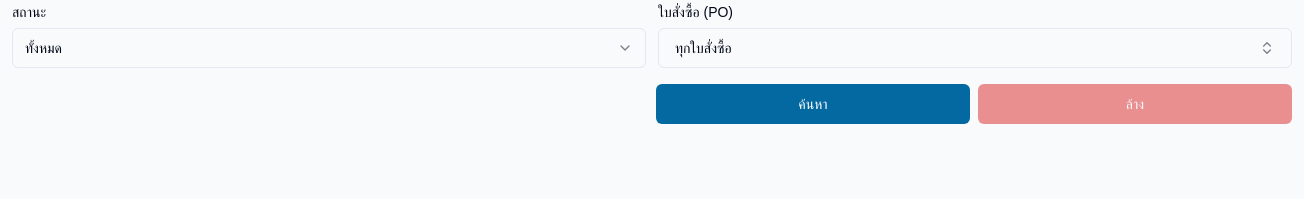
Test: GRNListFilterForm › ล้าง is disabled while pristine and enables after a change
Expected: the button "ล้าง" is disabled, 978,84 -> 1292,124
What coordinates should you click on to do the following:
click the dropdown named "สถานะ"
I would click on:
 (44, 48)
Its box is 12,28 -> 646,68.
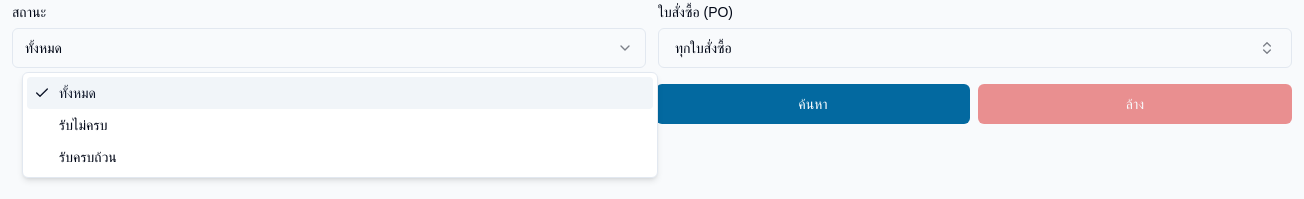
What coordinates should you click on to do the following:
click the option "รับครบถ้วน"
I would click on:
 (88, 157)
Its box is 59,149 -> 117,165.
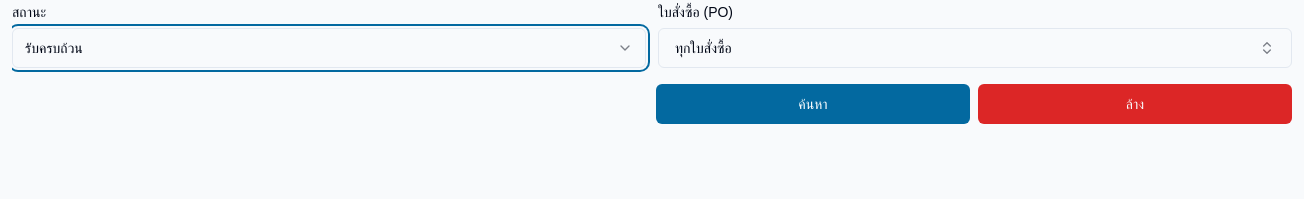
Now the button "ล้าง" is enabled, box 978,84 -> 1292,124
